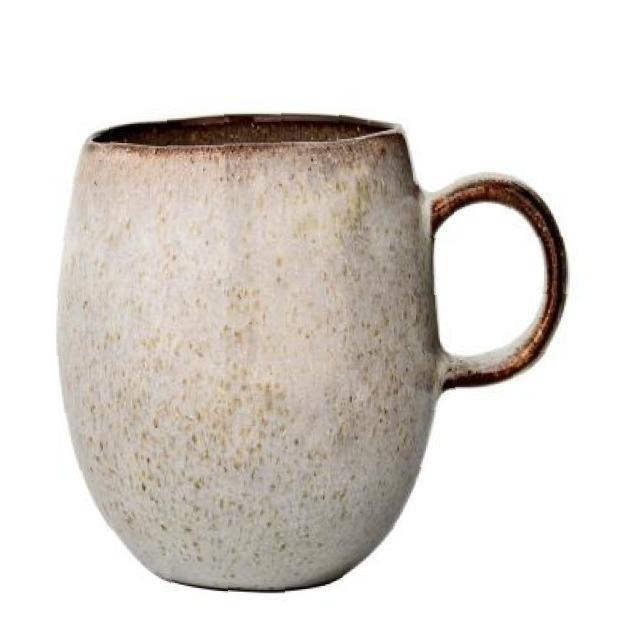cup: (48, 104, 575, 602)
